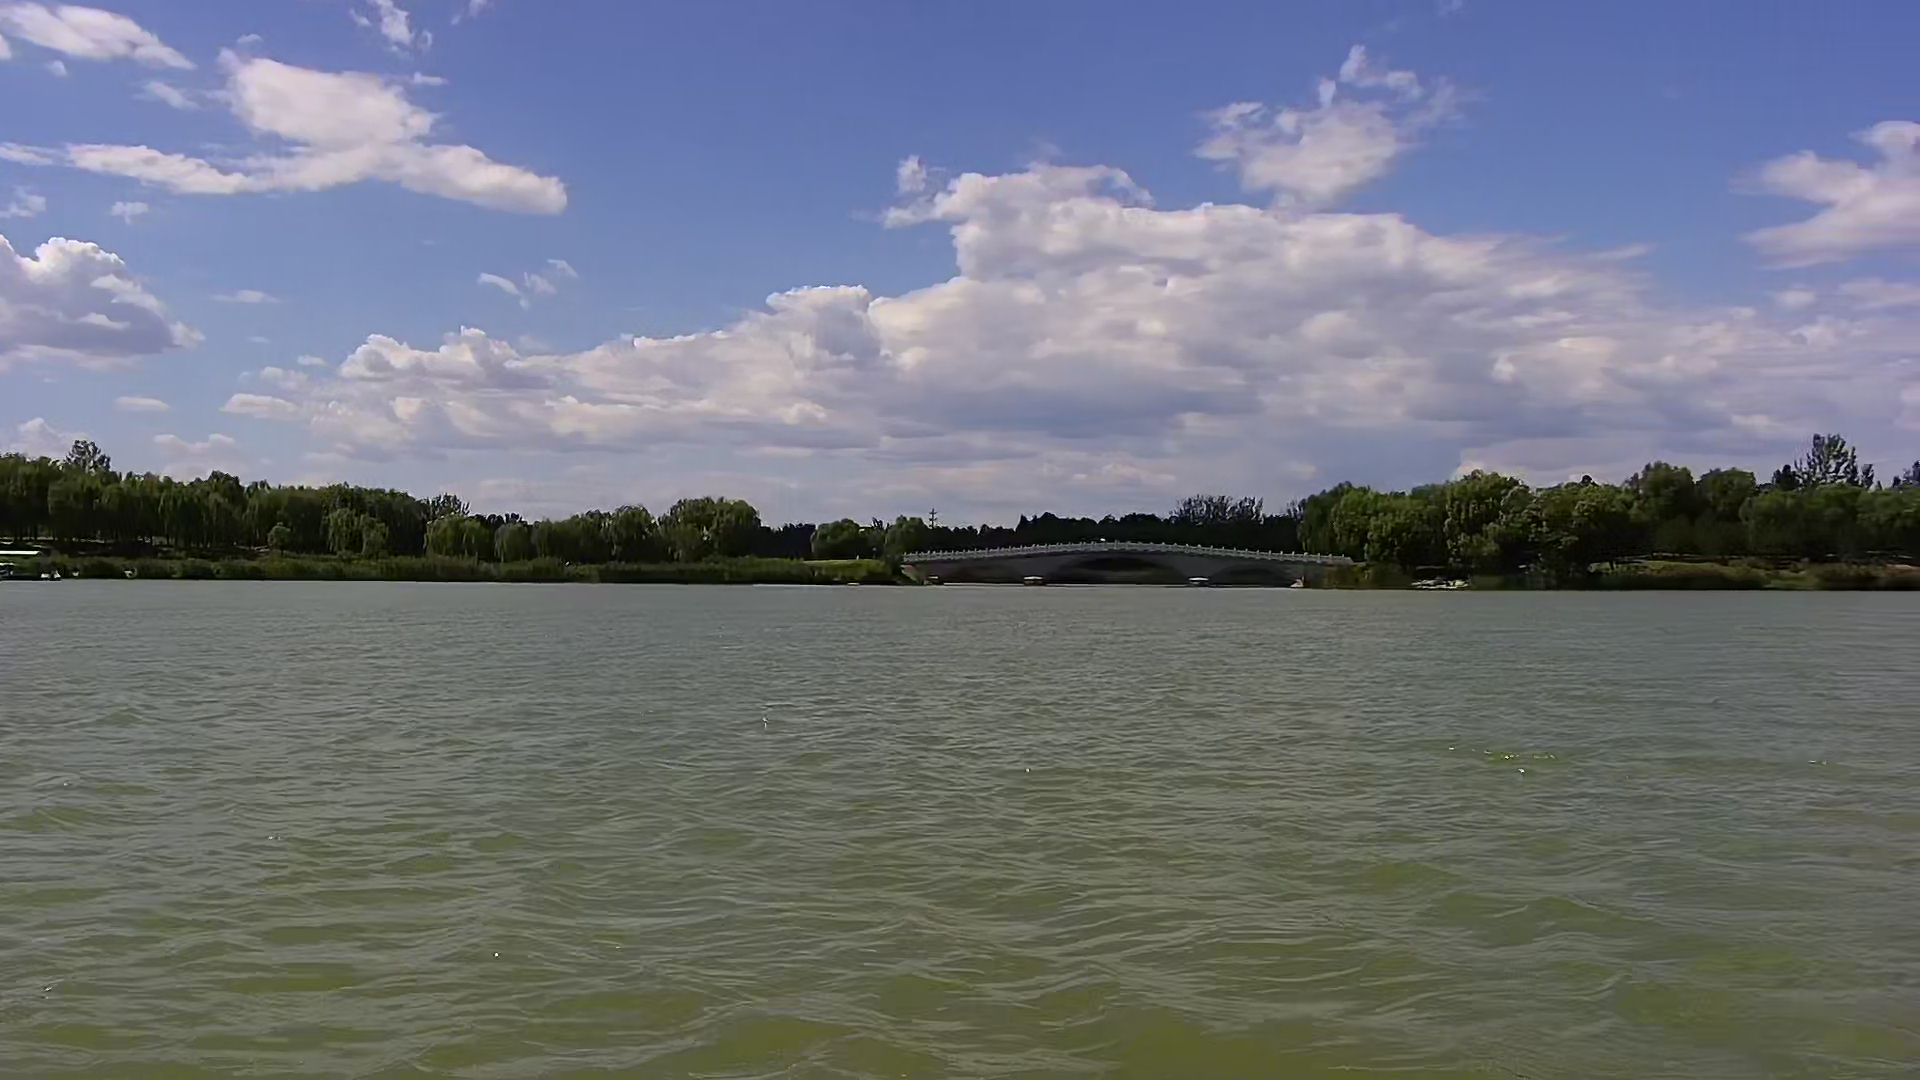bridge: (905, 541, 1354, 591)
